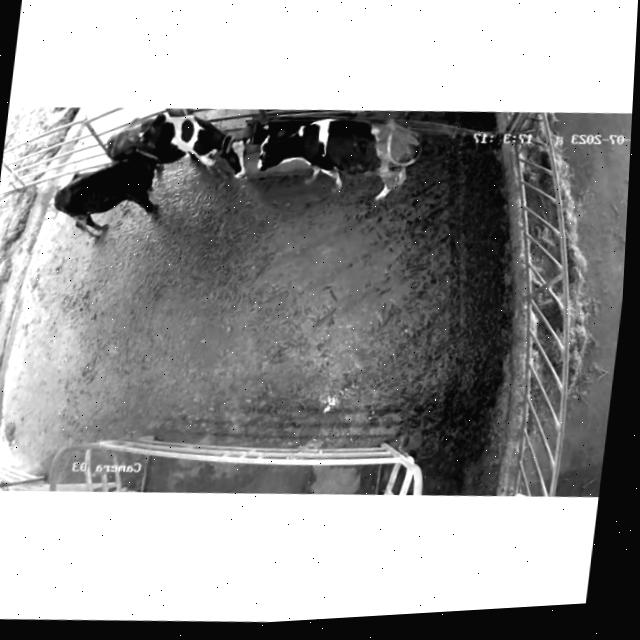propping: (118, 103, 184, 175)
